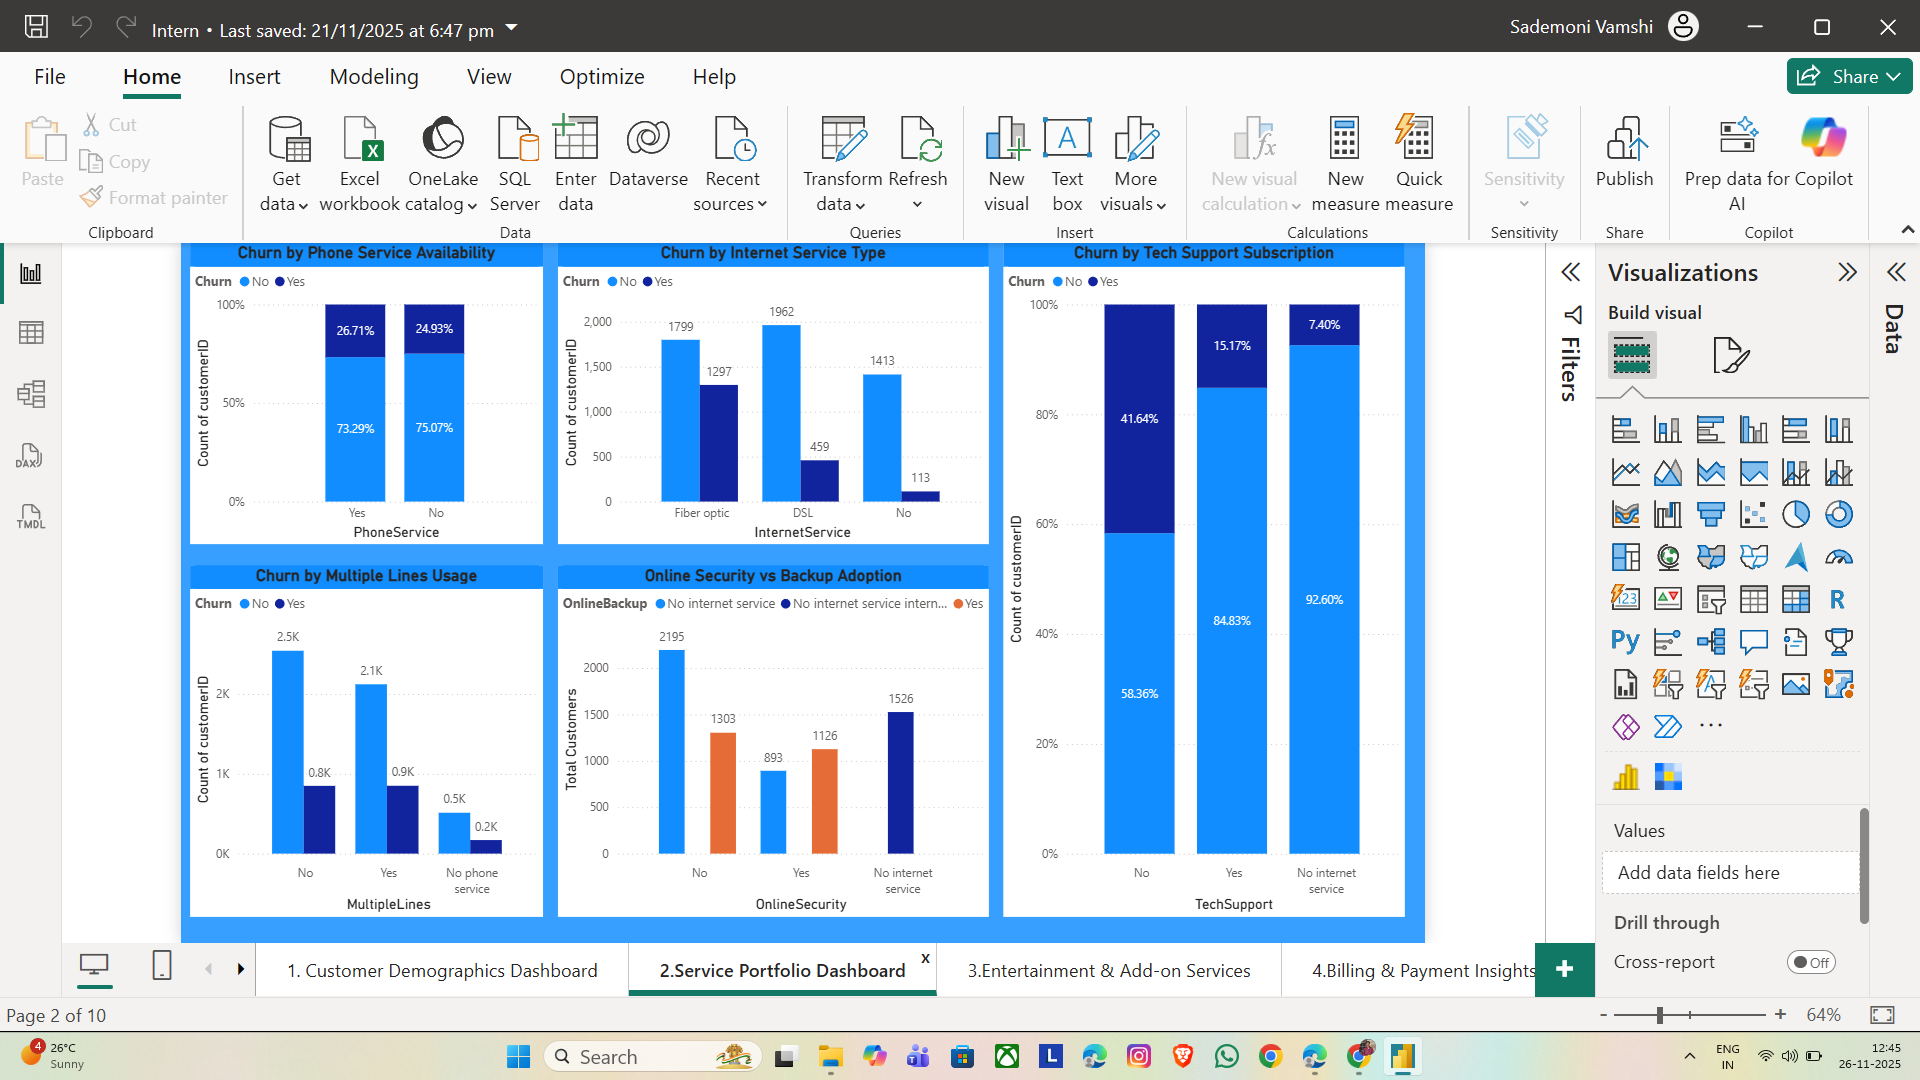

Layout of this report page (visuals, bound fields, positions):
{"tool":"powerbi","page":{"name":"2.Service Portfolio Dashboard","canvas":[1280,720],"ordinal":1},"visuals":[{"type":"hundredPercentStackedColumnChart","title":"Churn by Phone Service Availability","fields":{"Category":["Telco_Customer_Churn.PhoneService"],"Y":["CountNonNull(Telco_Customer_Churn.customerID)"],"Series":["Telco_Customer_Churn.Churn"]},"box":[10,0,363.3,310],"z":0},{"type":"clusteredColumnChart","title":"Churn by Multiple Lines Usage","fields":{"Category":["Telco_Customer_Churn.MultipleLines"],"Y":["CountNonNull(Telco_Customer_Churn.customerID)"],"Series":["Telco_Customer_Churn.Churn"]},"box":[10,331.7,363.3,361.7],"z":1000},{"type":"clusteredColumnChart","title":"Churn by Internet Service Type","fields":{"Category":["Telco_Customer_Churn.InternetService"],"Y":["CountNonNull(Telco_Customer_Churn.customerID)"],"Series":["Telco_Customer_Churn.Churn"]},"box":[388.3,0,443.3,310],"z":2000},{"type":"clusteredColumnChart","title":"Online Security vs Backup Adoption","fields":{"Category":["Telco_Customer_Churn.OnlineSecurity"],"Y":["Telco_Customer_Churn.Total Customers"],"Series":["Telco_Customer_Churn.OnlineBackup"]},"box":[388.3,331.7,443.3,361.7],"z":3000},{"type":"hundredPercentStackedColumnChart","title":"Churn by Tech Support Subscription","fields":{"Category":["Telco_Customer_Churn.TechSupport"],"Y":["CountNonNull(Telco_Customer_Churn.customerID)"],"Series":["Telco_Customer_Churn.Churn"]},"box":[846.7,0,413.3,693.3],"z":4000}]}

Visuals, with their boxes on the page's 1280x720 design canvas (x1, y1, x2, y2). These are canvas units, not pixel positions in the 1920x1080 screenshot, which may show the page scaled, cropped or inside an application window:
"Churn by Phone Service Availability" hundredPercentStackedColumnChart: {"x1": 10, "y1": 0, "x2": 373, "y2": 310}
"Churn by Multiple Lines Usage" clusteredColumnChart: {"x1": 10, "y1": 332, "x2": 373, "y2": 693}
"Churn by Internet Service Type" clusteredColumnChart: {"x1": 388, "y1": 0, "x2": 832, "y2": 310}
"Online Security vs Backup Adoption" clusteredColumnChart: {"x1": 388, "y1": 332, "x2": 832, "y2": 693}
"Churn by Tech Support Subscription" hundredPercentStackedColumnChart: {"x1": 847, "y1": 0, "x2": 1260, "y2": 693}
